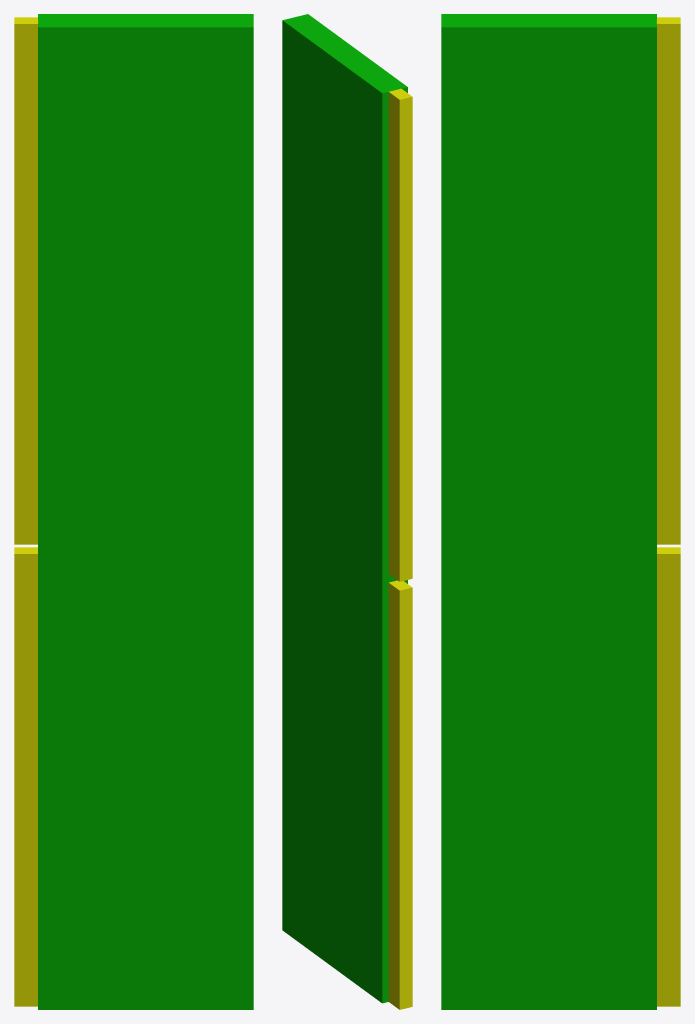
File: DDR.fbx
3 renders of one model, left to right at view 1: azimuth 90°, elevation 25°; view 2: azimuth 210°, elevation 25°; view 3: azimuth 270°, elevation 25°, orthographic. The views are drawn at different scales.
Visible parts, largest first — view 1: DDR-1; view 2: DDR-1; view 3: DDR-1.
Boxes of the visible parts, left/top/right/bottom form: DDR-1: left=14, top=14, right=253, bottom=1009; DDR-1: left=282, top=14, right=412, bottom=1009; DDR-1: left=441, top=14, right=680, bottom=1009.
Bounding box in the file's own units: 1.58 × 53.63 × 11.84.
